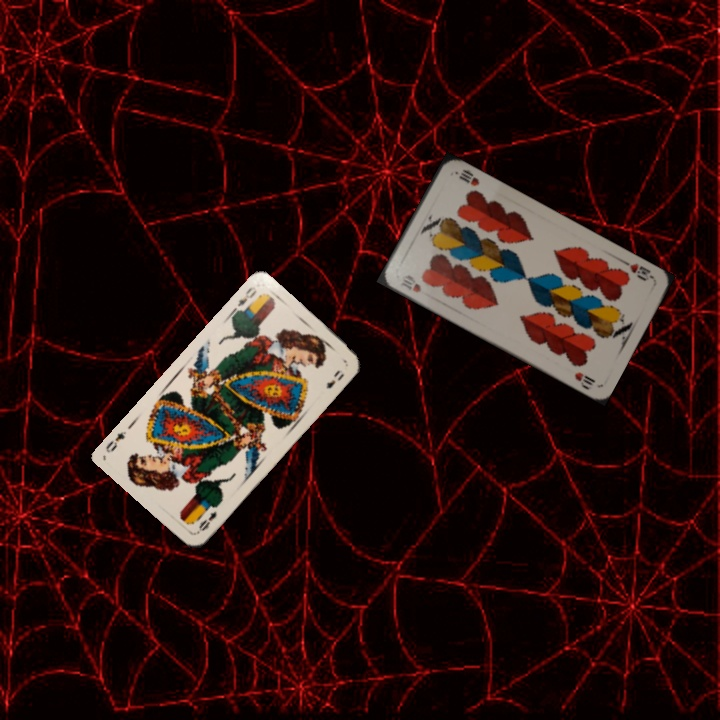EO: (229, 282, 259, 316), (193, 507, 219, 536)
H10: (626, 259, 656, 284), (396, 271, 424, 295)
